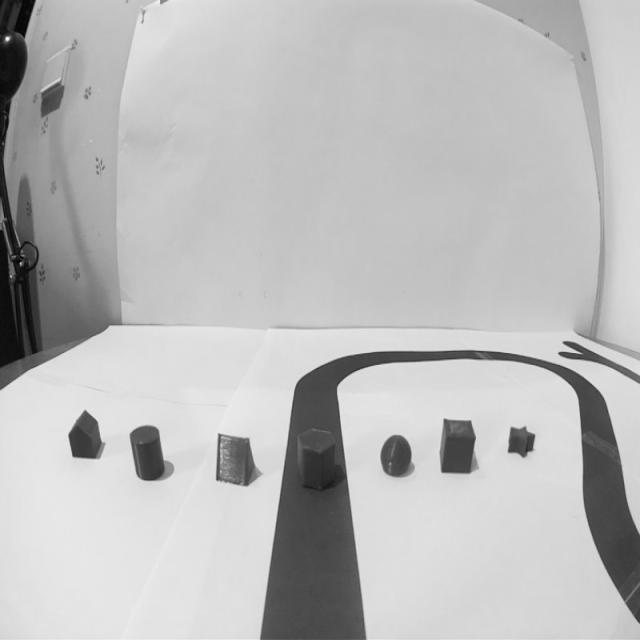ball: (380, 434, 413, 478)
cube: (438, 417, 476, 475)
cylinder: (128, 423, 168, 482)
hexagon: (294, 426, 342, 492)
home: (68, 409, 104, 462)
lineStraight: (245, 496, 377, 640)
star: (506, 422, 538, 459)
triangle: (215, 432, 258, 487)
